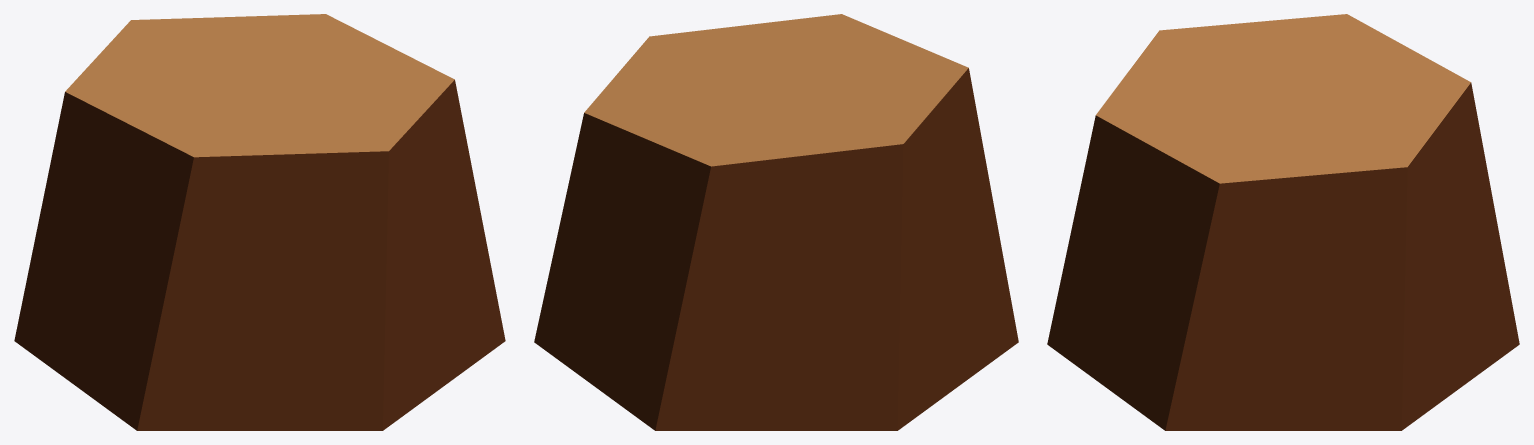
The model's file is T_TreeStump2.fbx.
3 renders of one model, left to right at view 1: azimuth 30°, elevation 25°; view 2: azimuth 150°, elevation 25°; view 3: azimuth 270°, elevation 25°, orthographic. The views are drawn at different scales.
Parts seen in each view (by area): view 1: Cylinder; view 2: Cylinder; view 3: Cylinder.
Part boxes in pixels (box(x1,y1,x2,y2)): Cylinder: box(14, 14, 505, 430); Cylinder: box(534, 14, 1018, 430); Cylinder: box(1047, 14, 1519, 430).
Bounding box in the file's own units: 1.78 × 1.22 × 2.05.
